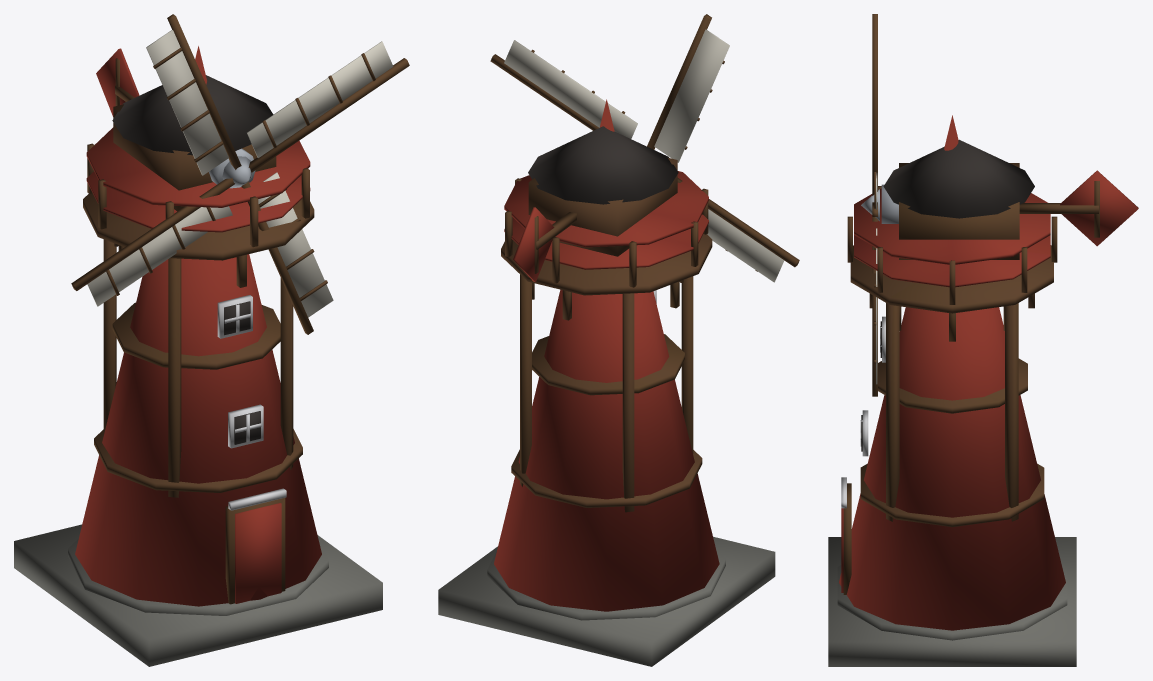
File: farm_windmill.glb
The picture shows the model from 3 angles, left to right: view 1: azimuth 30°, elevation 25°; view 2: azimuth 150°, elevation 25°; view 3: azimuth 270°, elevation 25°; orthographic projection. The views are drawn at different scales.
Parts seen in each view (by area): view 1: farm_windmill; view 2: farm_windmill; view 3: farm_windmill.
Boxes of the visible parts, x1,y1,x2,y2 form: farm_windmill: [14, 14, 409, 666]; farm_windmill: [438, 14, 799, 666]; farm_windmill: [828, 14, 1138, 666].
Size of the model in its own units: 5.17 by 9.13 by 4.5.
